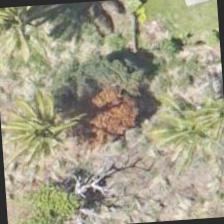Kelapa_Sawit: (130, 89, 223, 186), (0, 93, 91, 190), (0, 3, 64, 64)
